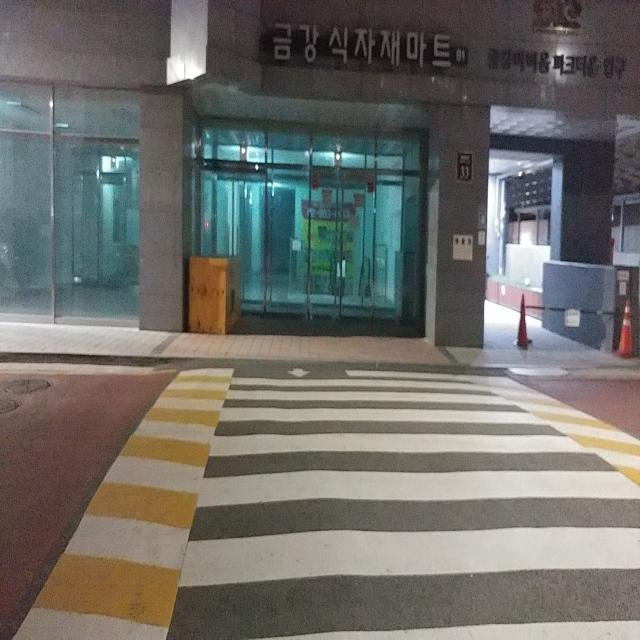횡단보도: (176, 365, 640, 640)
